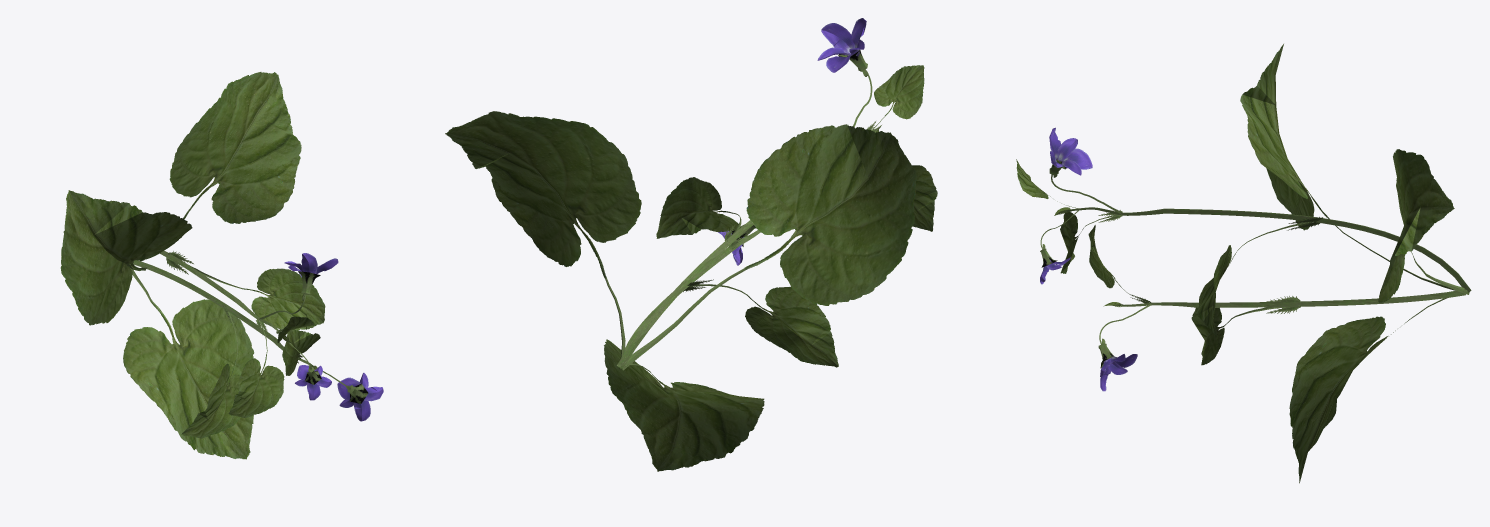
The picture shows the model from 3 angles, left to right: view 1: azimuth 30°, elevation 25°; view 2: azimuth 150°, elevation 25°; view 3: azimuth 270°, elevation 25°; orthographic projection. The views are drawn at different scales.
Visible parts, largest first — view 1: GC20_1; view 2: GC20_1; view 3: GC20_1.
Part boxes in pixels (x1,y1,x2,y2): GC20_1: [60, 72, 383, 459]; GC20_1: [445, 18, 937, 471]; GC20_1: [1016, 44, 1471, 483].
Size of the model in its own units: 1 by 0.9844 by 0.9622.
5 materials, 5 textured.
